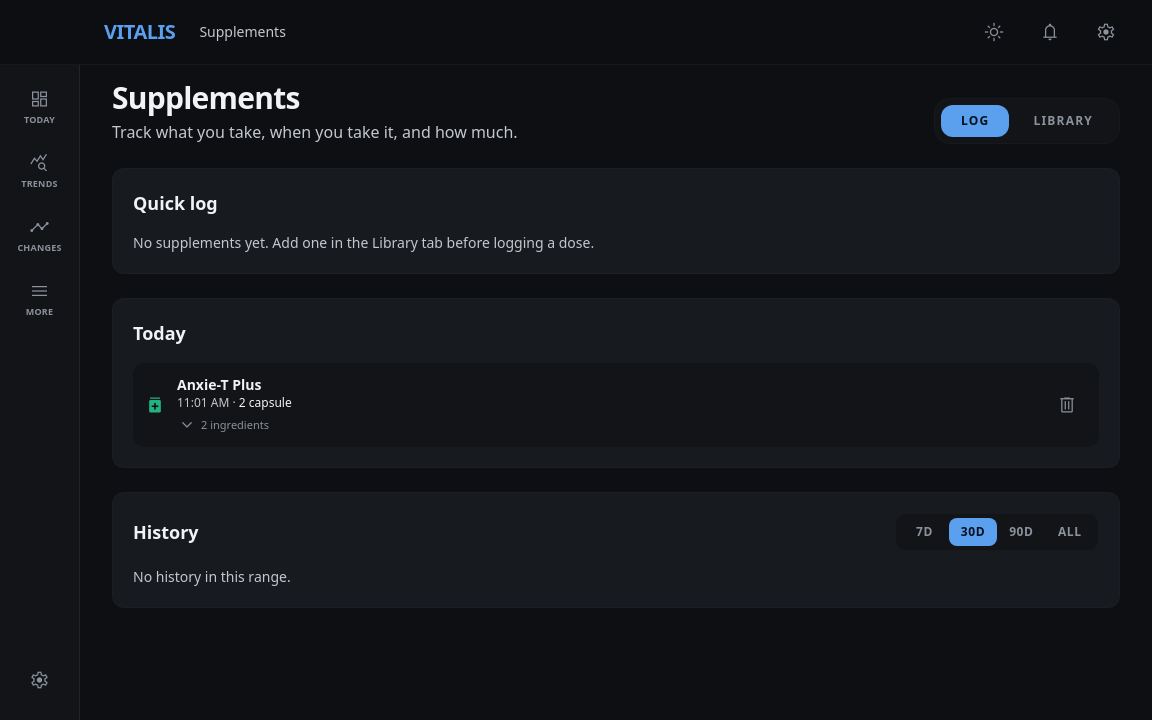
Test: Supplements page › expands an intake row to show its logged ingredient breakdown
Expected: the text "Ashwagandha" is not shown
Click the button "2 ingredients": click(223, 425) [177,415,269,435]
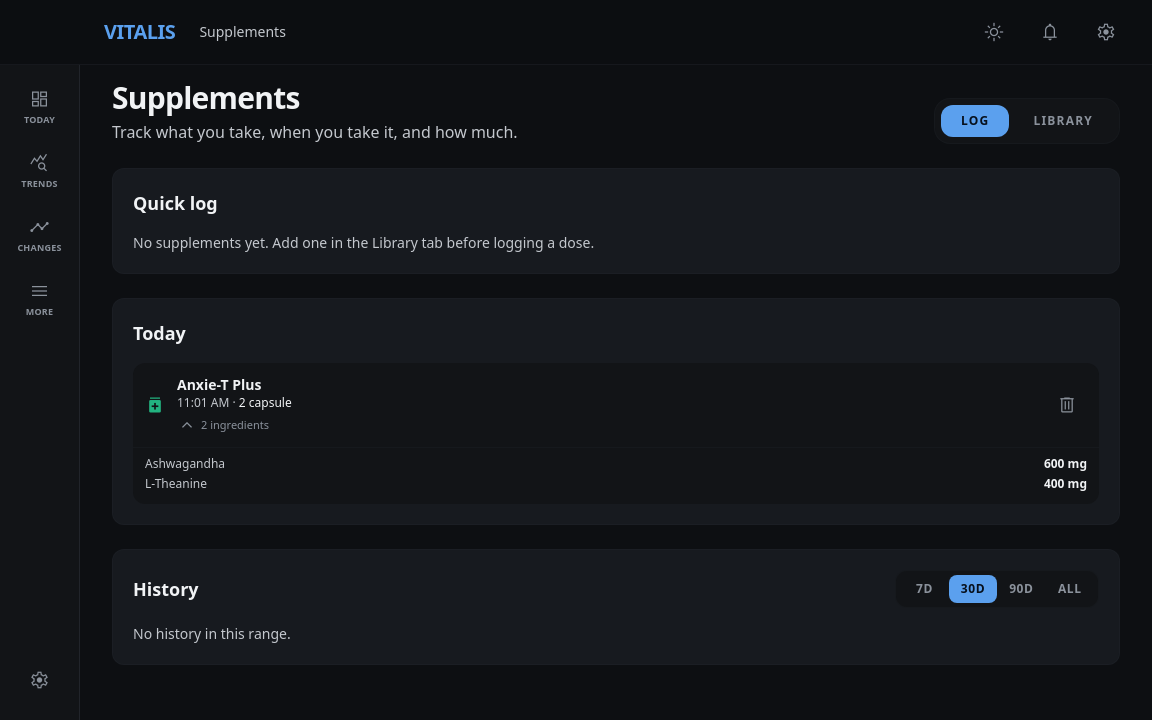
Expected: the button "2 ingredients" is expanded, [177,415,269,435]
Expected: the text "Ashwagandha" is shown, [145,456,225,472]
Expected: the text "600 mg" is shown, [1044,456,1087,472]
